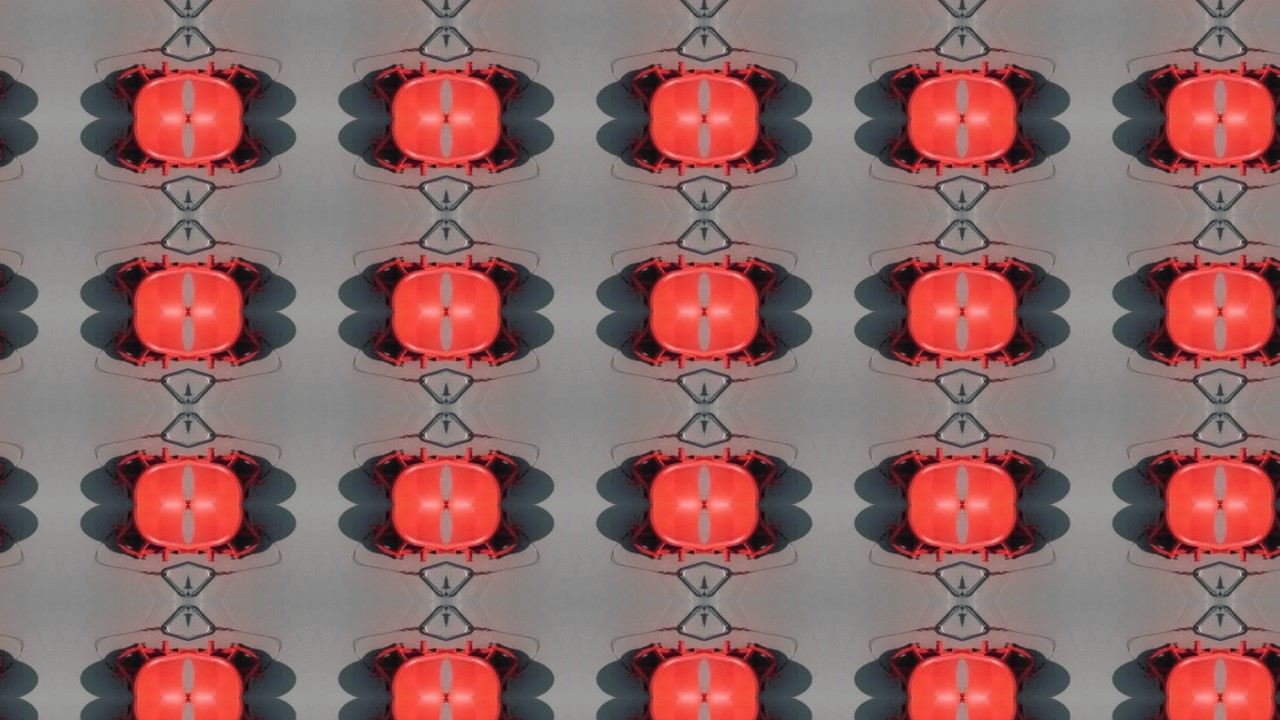chock: (92, 50, 187, 118), (445, 50, 540, 118), (704, 50, 799, 118), (869, 50, 964, 118), (1128, 50, 1223, 118), (92, 117, 187, 185), (445, 117, 540, 185), (704, 117, 799, 185), (869, 117, 964, 185), (1128, 117, 1223, 185), (92, 244, 187, 312), (445, 244, 540, 312), (704, 244, 799, 312), (869, 244, 964, 312), (1128, 244, 1223, 312), (92, 438, 187, 506), (445, 438, 540, 506), (704, 438, 799, 506), (869, 438, 964, 506), (1128, 438, 1223, 506), (92, 505, 187, 573), (445, 505, 540, 573), (704, 505, 799, 573), (869, 505, 964, 573), (1128, 505, 1223, 573), (92, 632, 187, 700), (445, 632, 540, 700), (704, 632, 799, 700), (869, 632, 964, 700), (1128, 632, 1223, 700), (187, 50, 281, 118), (351, 50, 445, 118), (610, 50, 704, 118), (964, 50, 1058, 118), (187, 117, 281, 185), (351, 117, 445, 185), (610, 117, 704, 185), (964, 117, 1058, 185), (187, 244, 281, 312), (351, 244, 445, 312), (610, 244, 704, 312), (964, 244, 1058, 312), (187, 438, 281, 506), (351, 438, 445, 506), (610, 438, 704, 506), (964, 438, 1058, 506), (187, 505, 281, 573), (351, 505, 445, 573), (610, 505, 704, 573), (964, 505, 1058, 573), (187, 632, 281, 700), (351, 632, 445, 700), (610, 632, 704, 700), (964, 632, 1058, 700), (92, 312, 187, 379), (445, 312, 540, 379), (704, 312, 799, 379), (869, 312, 964, 379), (1128, 312, 1223, 379), (187, 312, 281, 379), (351, 312, 445, 379), (610, 312, 704, 379), (964, 312, 1058, 379), (1222, 50, 1280, 118), (1222, 117, 1280, 185), (1222, 244, 1280, 312), (1222, 438, 1280, 506), (1222, 505, 1280, 573), (1222, 632, 1280, 700), (1222, 312, 1280, 379), (92, 700, 187, 720), (445, 700, 540, 720), (704, 700, 799, 720), (869, 700, 964, 720), (1128, 700, 1223, 720), (187, 700, 281, 720), (351, 700, 445, 720), (610, 700, 704, 720), (964, 700, 1058, 720), (0, 50, 22, 118), (0, 117, 22, 185), (0, 244, 22, 312), (0, 438, 22, 506), (0, 505, 22, 573), (0, 632, 22, 700), (0, 312, 22, 379), (1222, 700, 1280, 720)
